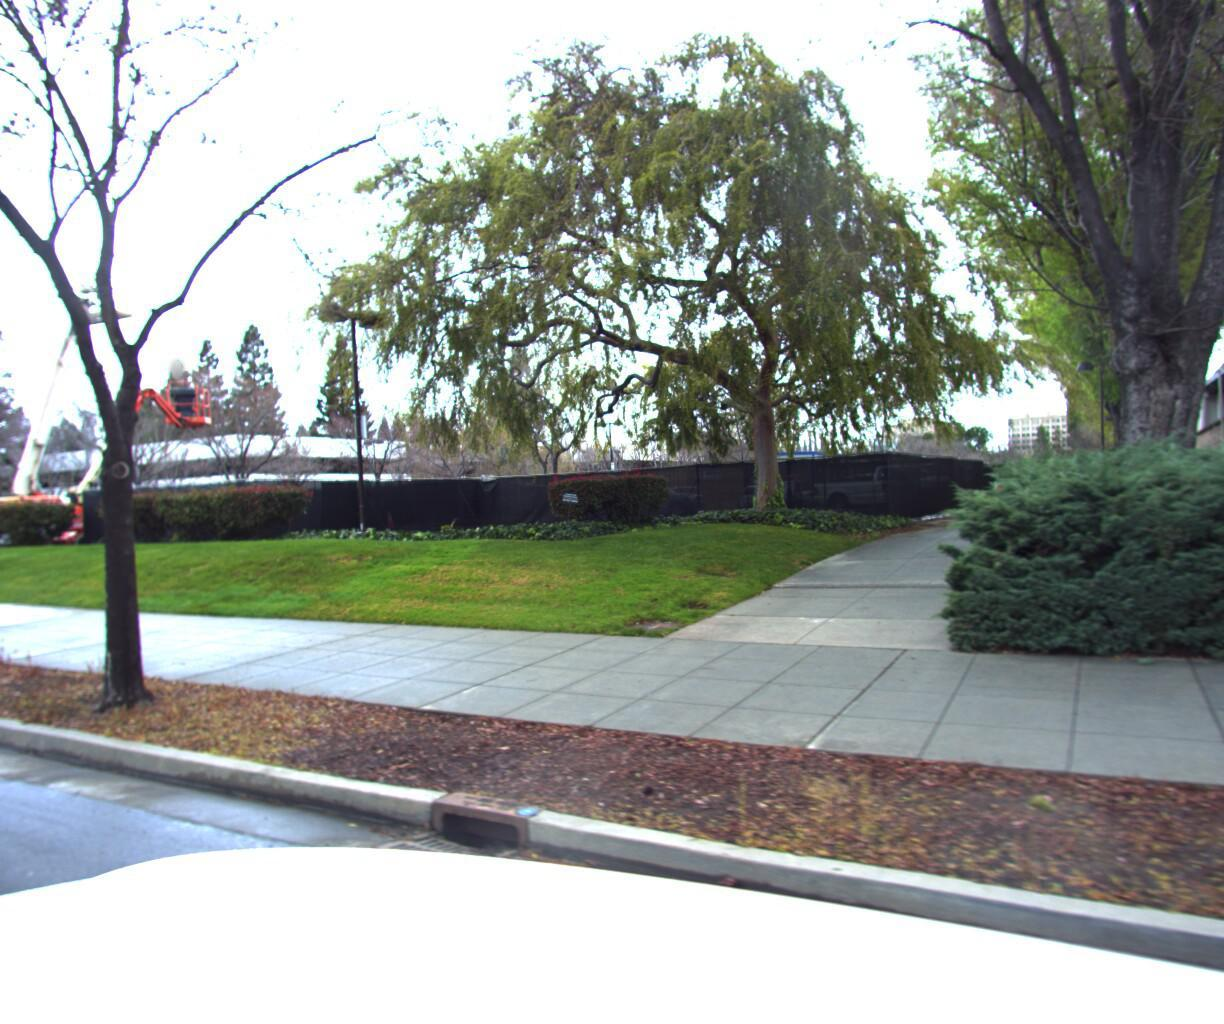car: (0, 507, 5, 561)
